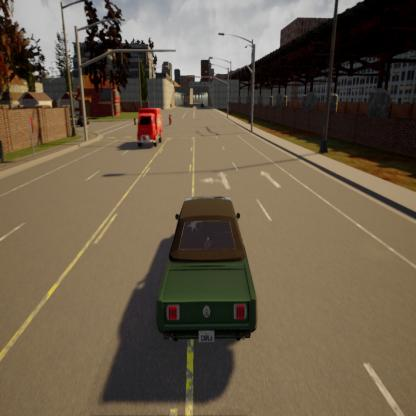Cars: (148, 176, 266, 370), (125, 103, 168, 169)
